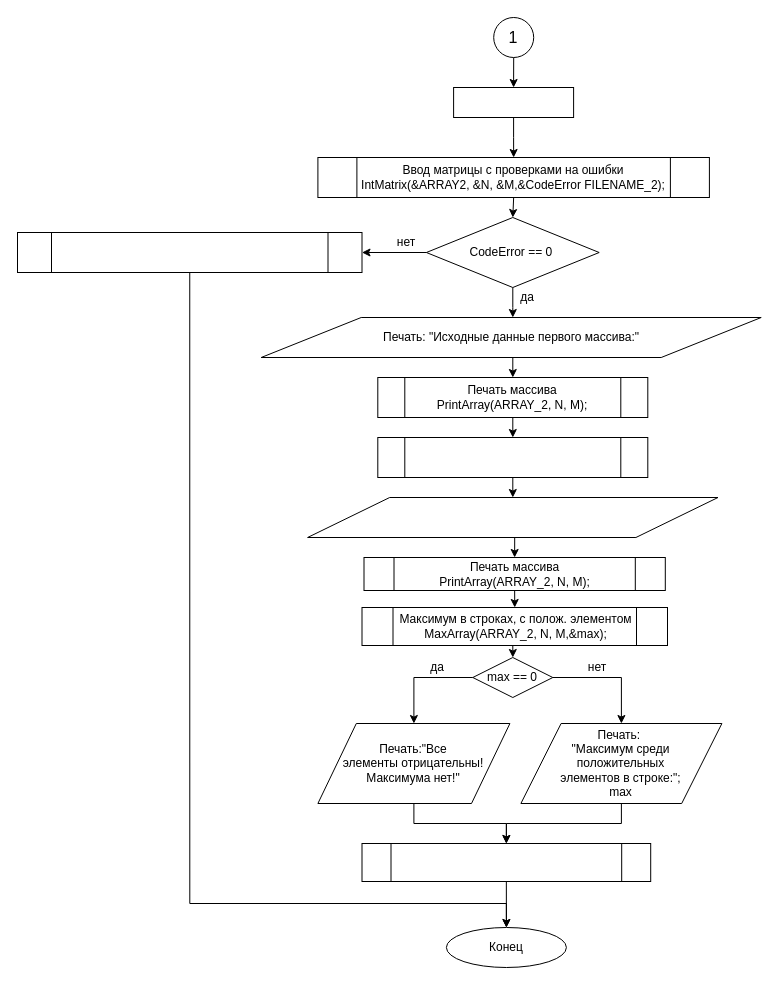
Some shapes in this 779 by 985 pixel diagram are drawn without their labels. Each missing label, with the box of its shape:
CodeError = 0: (453, 86, 574, 118)
Меняем местами строки чет. с нечет. SwapArray(ARRAY_2, N, M);: (377, 436, 648, 478)
Обработка ошибки GetCode(CodeError);: (16, 232, 362, 272)
Очистка памяти CleanMemory (ARRAY_2, N);: (361, 842, 651, 882)
Печать:"Массив после перестановки:": (307, 496, 718, 538)
